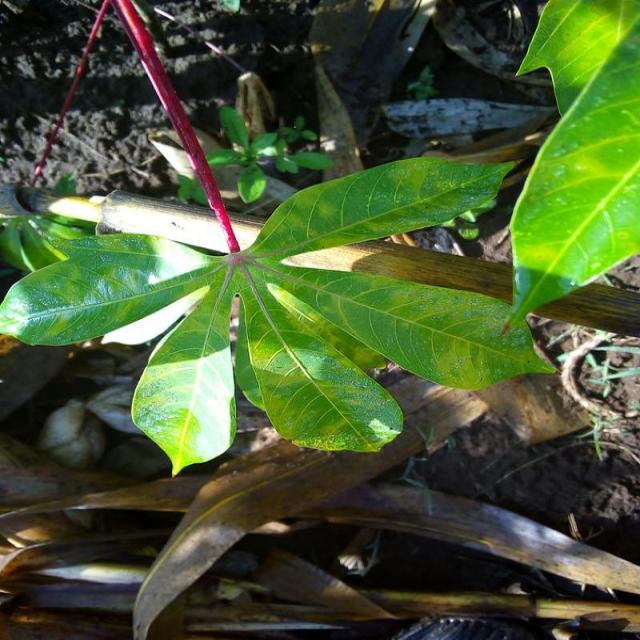cassava leaf: (0, 152, 558, 474), (502, 0, 638, 335), (130, 282, 236, 476)
